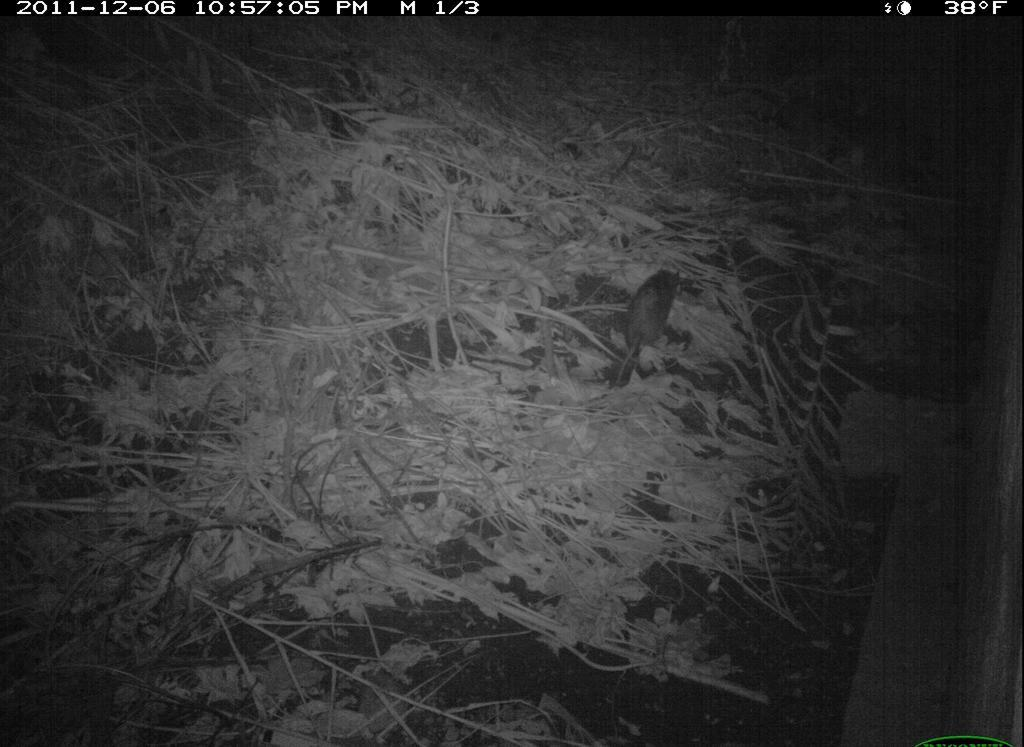opossum: (615, 262, 687, 401)
